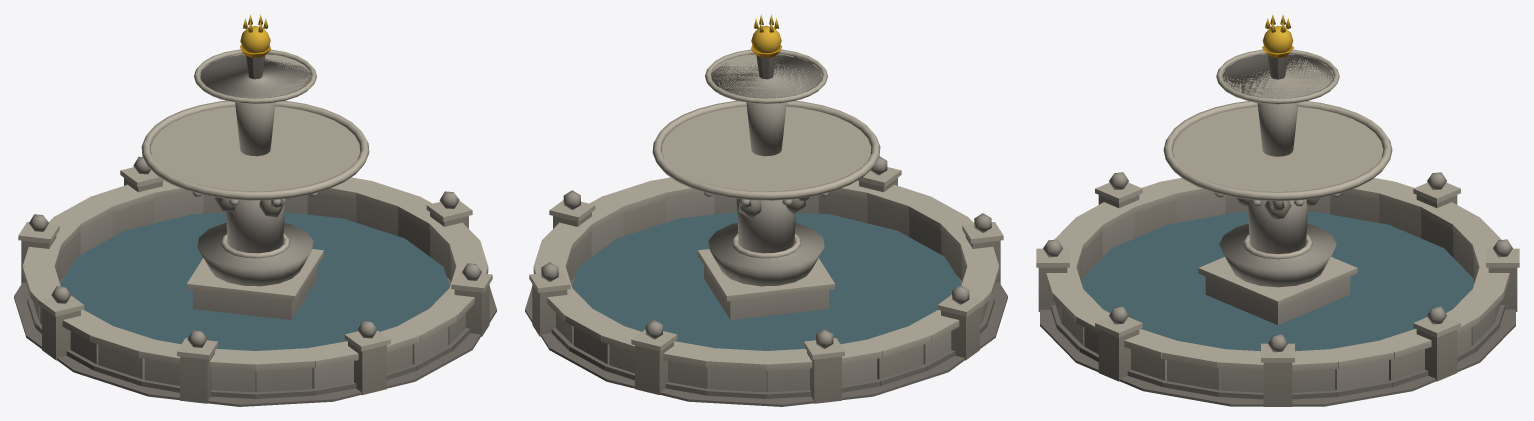
File: rb_fountain.glb
3 views of the same model, side by side, from view 1: azimuth 30°, elevation 25°; view 2: azimuth 150°, elevation 25°; view 3: azimuth 270°, elevation 25° (orthographic).
Visible parts, largest first — view 1: rb_fountain_LOD0; view 2: rb_fountain_LOD0; view 3: rb_fountain_LOD0.
Part boxes in pixels (x1,y1,x2,y2): rb_fountain_LOD0: (14, 14, 496, 406); rb_fountain_LOD0: (525, 14, 1007, 406); rb_fountain_LOD0: (1036, 14, 1519, 406).
Size of what is drawn, in the model's own units: 9.46 by 6.22 by 9.46.
